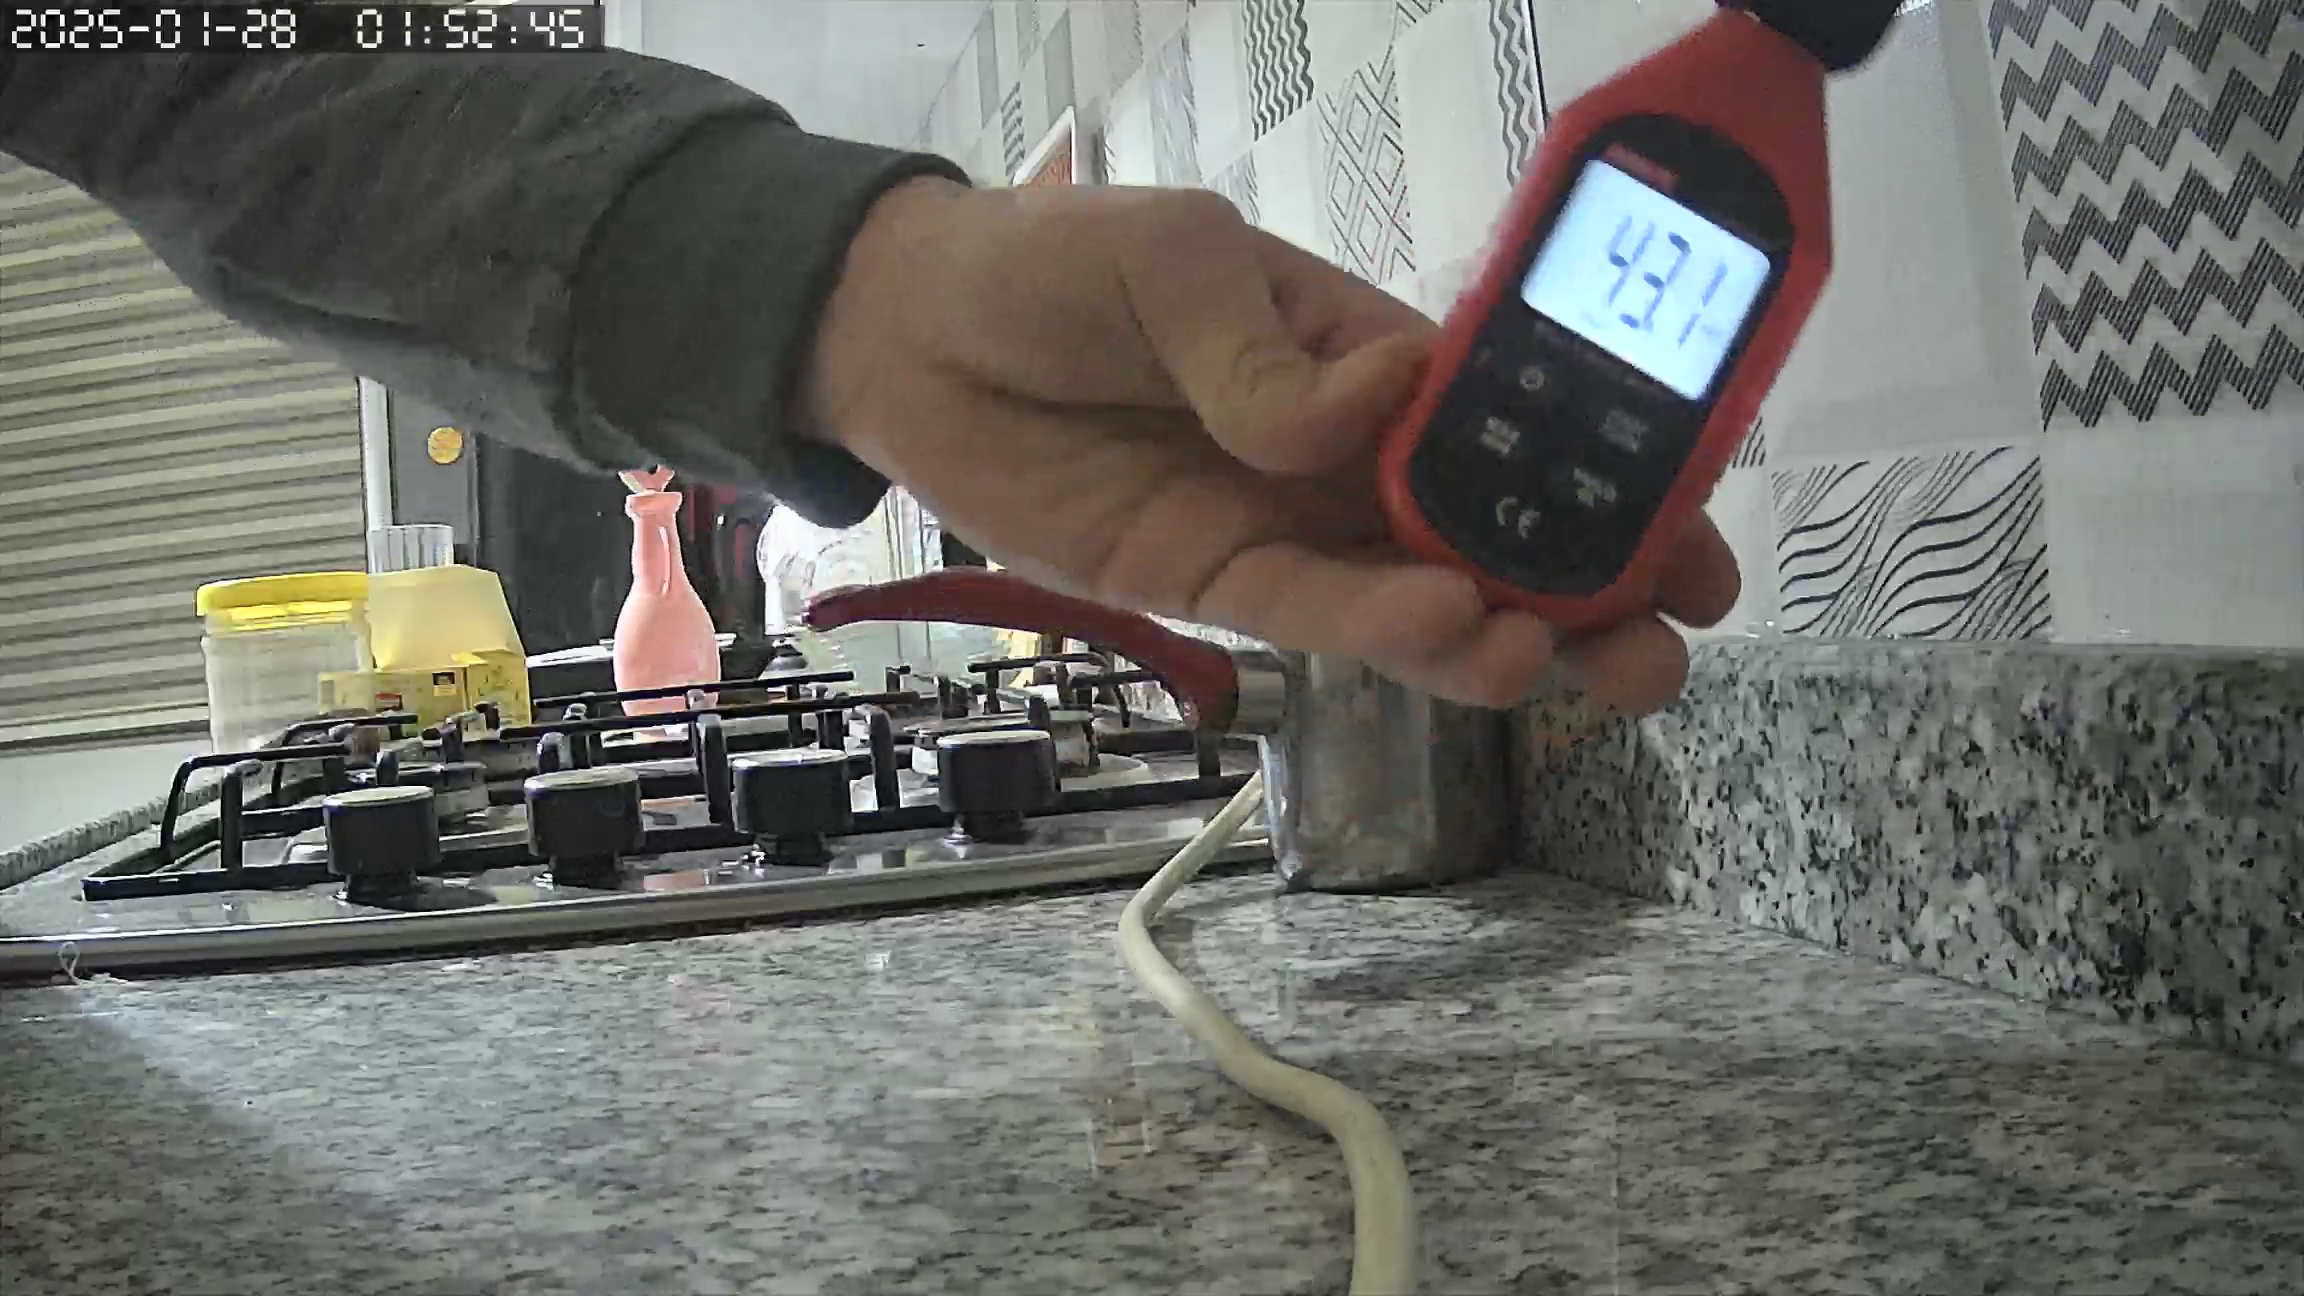screen: (1521, 155, 1769, 404)
